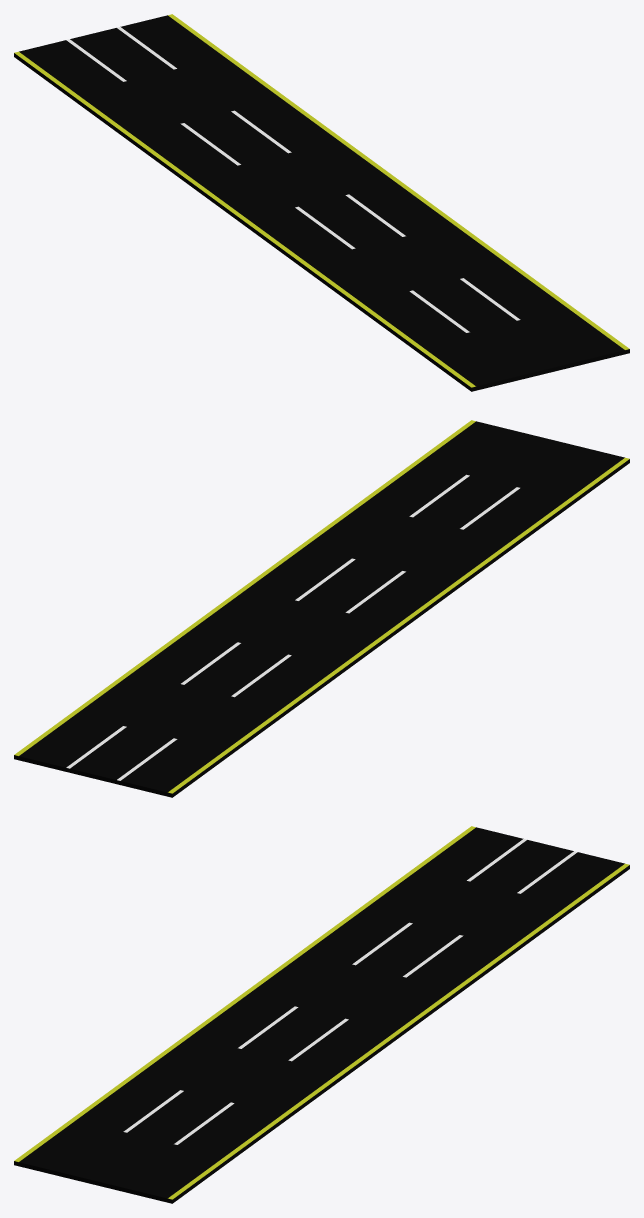
File: Road1.fbx
3 renders of one model, top to bottom at view 1: azimuth 30°, elevation 25°; view 2: azimuth 150°, elevation 25°; view 3: azimuth 330°, elevation 25°, orthographic.
Parts seen in each view (by area): view 1: Cube; view 2: Cube; view 3: Cube.
Boxes of the visible parts, x1,y1,x2,y2 form: Cube: (14, 14, 629, 391); Cube: (14, 420, 629, 797); Cube: (14, 826, 629, 1203).
Bounding box in the file's own units: 800 × 20 × 4000.
